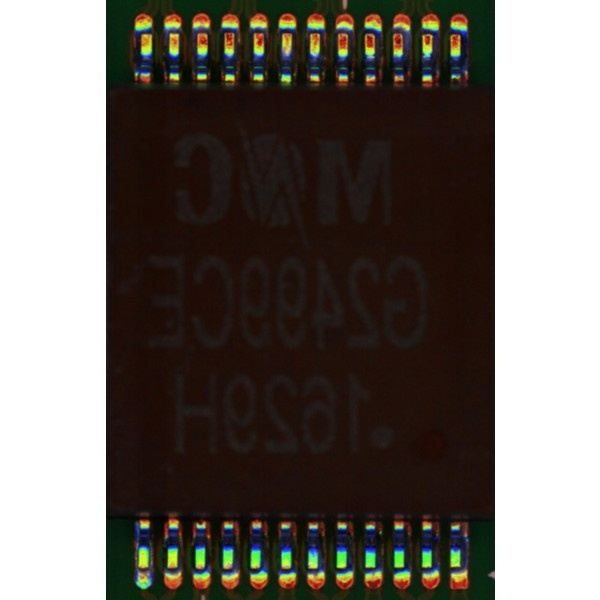Bad_podu: (139, 563, 147, 577)
Bad_qiaojiao: (134, 521, 138, 567), (149, 537, 154, 569)
